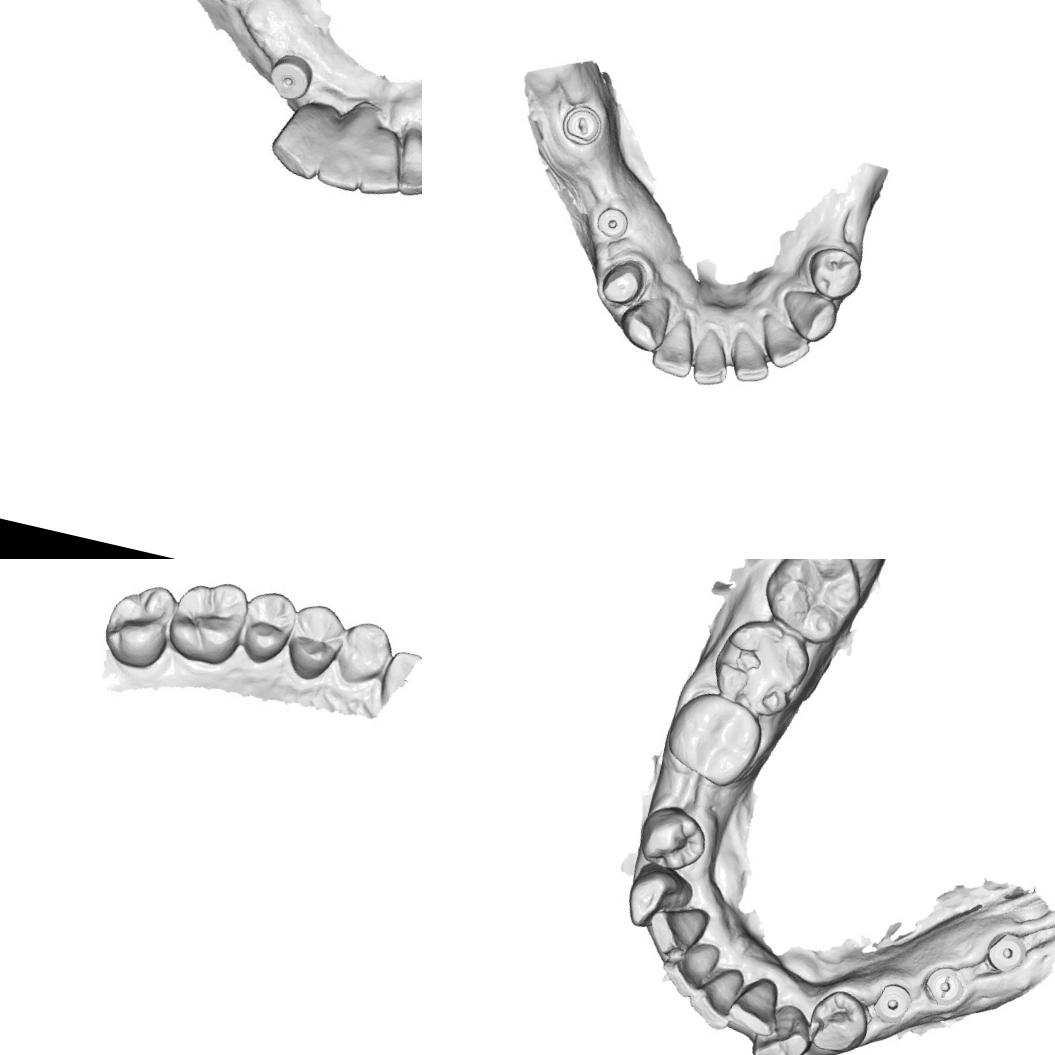canine: (263, 94, 335, 182), (334, 615, 400, 690), (774, 283, 842, 347), (614, 288, 675, 356), (625, 866, 686, 934), (748, 1001, 817, 1055)
crown: (594, 252, 652, 312)
implant: (261, 42, 319, 106), (982, 927, 1031, 978), (870, 980, 916, 1026), (588, 201, 636, 243)
implant_minus: (556, 98, 608, 150), (921, 966, 968, 1008)
incisor: (312, 100, 378, 194), (350, 112, 412, 198), (635, 900, 705, 970), (752, 310, 817, 375), (685, 966, 746, 1032), (647, 310, 703, 380), (730, 973, 788, 1039), (659, 939, 717, 1001), (722, 328, 778, 389), (688, 326, 738, 390), (393, 122, 422, 200)
molar: (706, 612, 820, 722), (658, 684, 767, 793), (754, 559, 873, 650), (161, 569, 254, 672), (98, 575, 178, 674)
premolar: (278, 596, 351, 686), (635, 800, 713, 876), (232, 584, 300, 671), (803, 985, 875, 1055), (801, 241, 867, 306)
